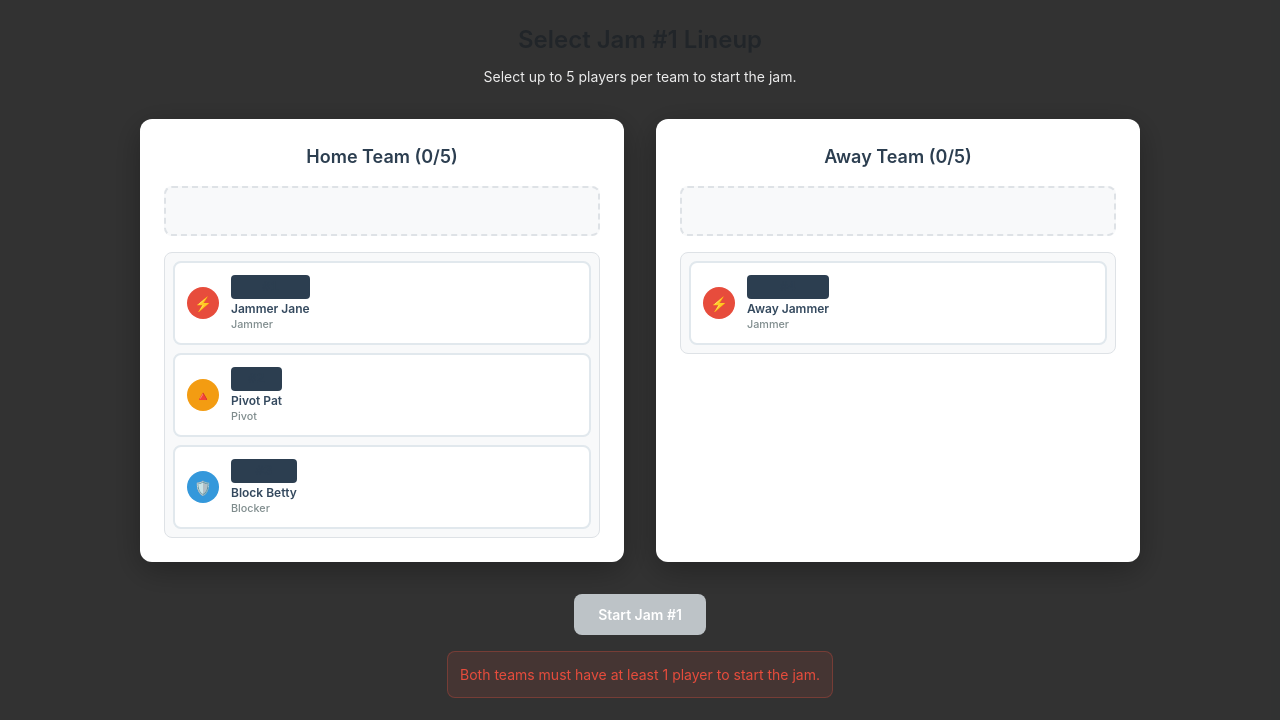
JamLineupSelector Component › shows validation message when not enough players selected
Check: the text "Both teams must have at least 1 player to start the jam." is shown, box [447,651,833,698]
Select home team player only
Click the text "Jammer Jane": (270, 308) [231,301,310,316]
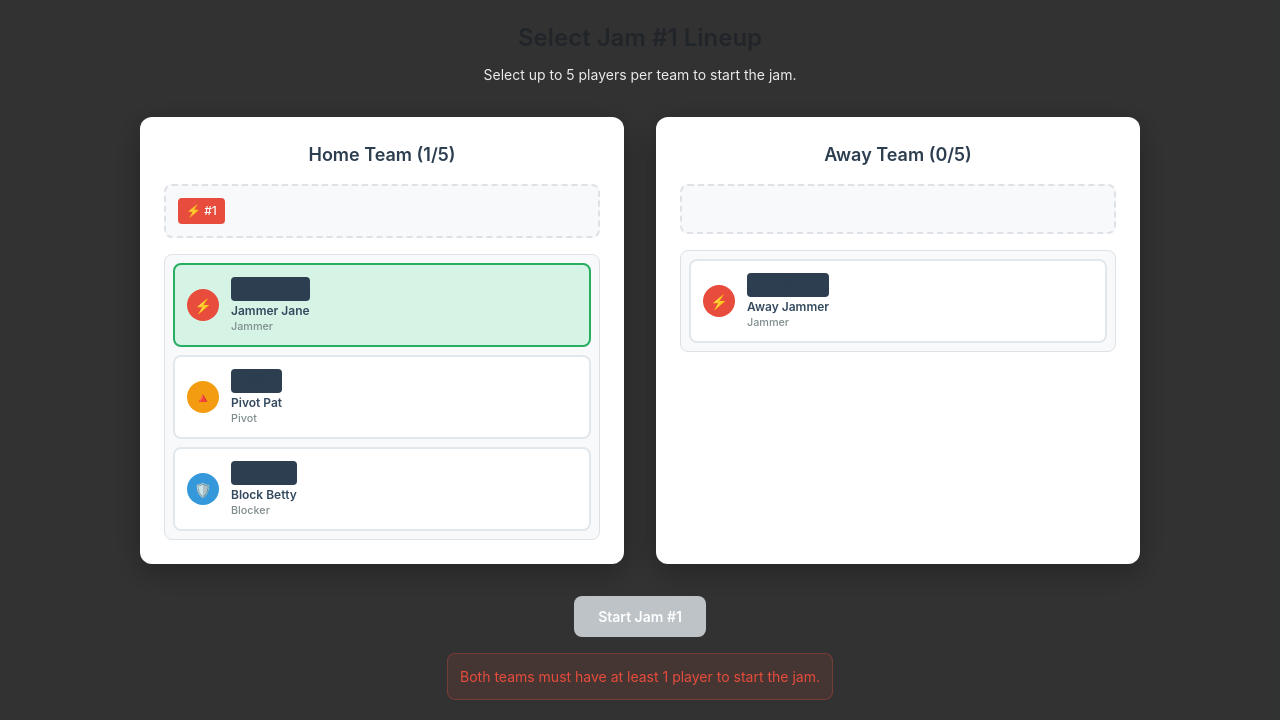
Check: the text "Both teams must have at least 1 player to start the jam." is shown, box [447,653,833,700]
Select away team player
Click the text "Away Jammer": (788, 306) [747,299,829,314]
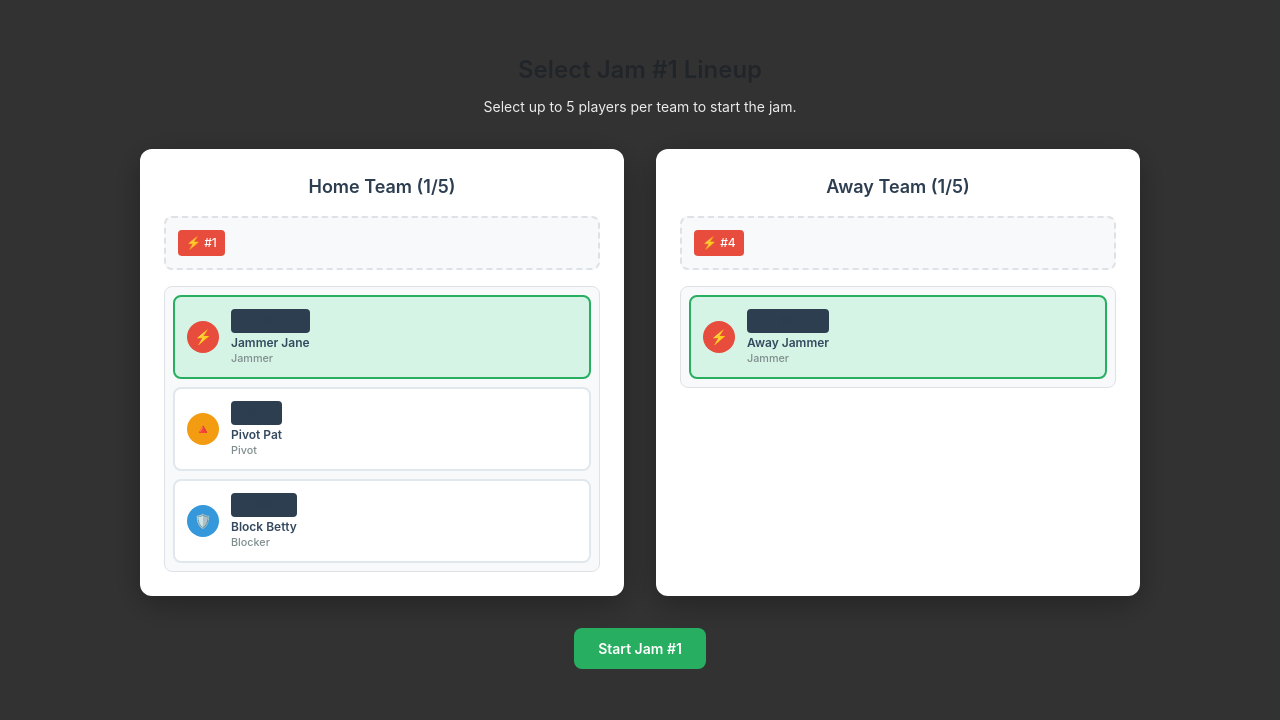
Check: the text "Both teams must have at least 1 player to start the jam." is gone
